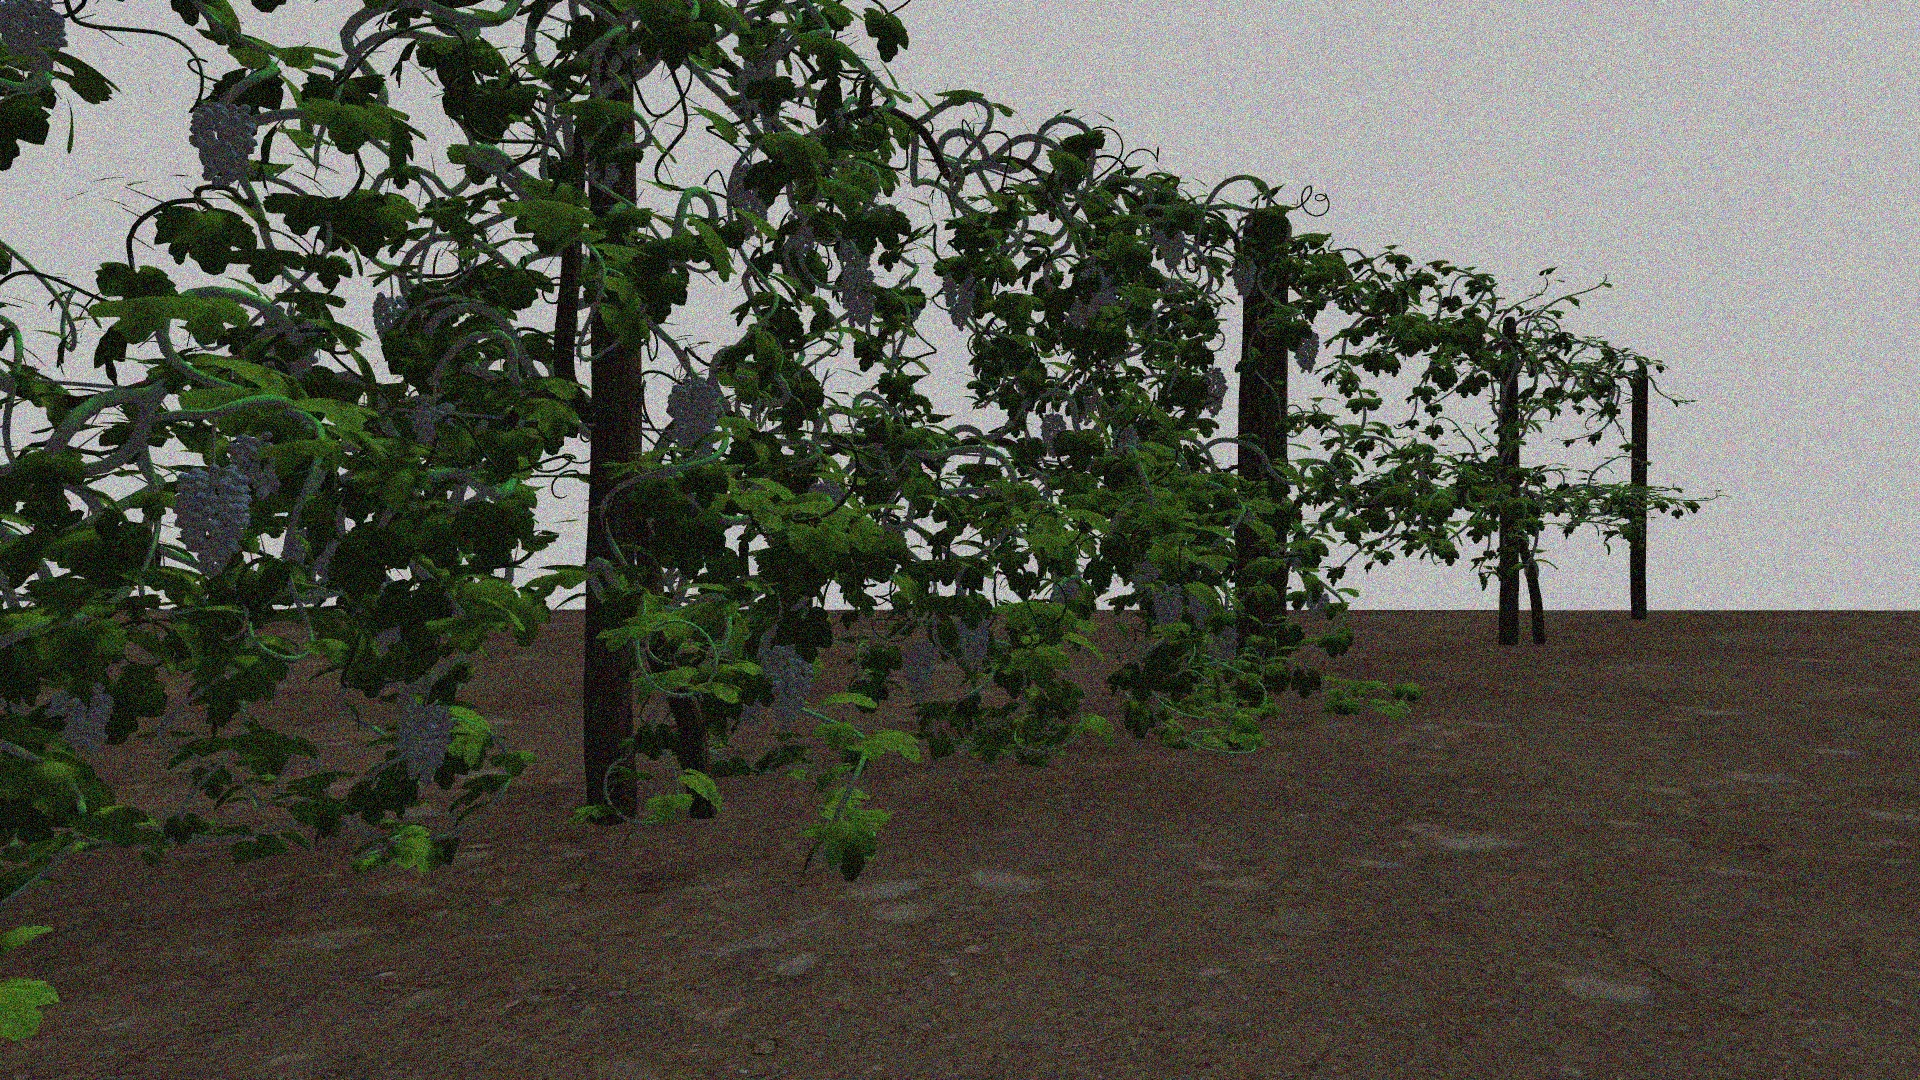grape: (171, 469, 257, 580), (186, 100, 258, 185), (393, 690, 459, 782), (44, 682, 117, 756), (762, 644, 816, 727), (665, 382, 720, 456), (5, 7, 69, 67), (232, 433, 284, 498), (728, 164, 769, 237), (903, 640, 942, 708), (940, 266, 978, 332), (407, 400, 454, 446), (843, 265, 877, 324), (957, 616, 992, 674), (1153, 219, 1185, 272), (371, 293, 410, 334), (1151, 583, 1185, 626), (1203, 367, 1228, 418), (1185, 589, 1215, 629), (1294, 328, 1319, 373), (1230, 257, 1257, 299), (1040, 415, 1065, 458), (1215, 622, 1240, 661), (1305, 593, 1331, 622)
